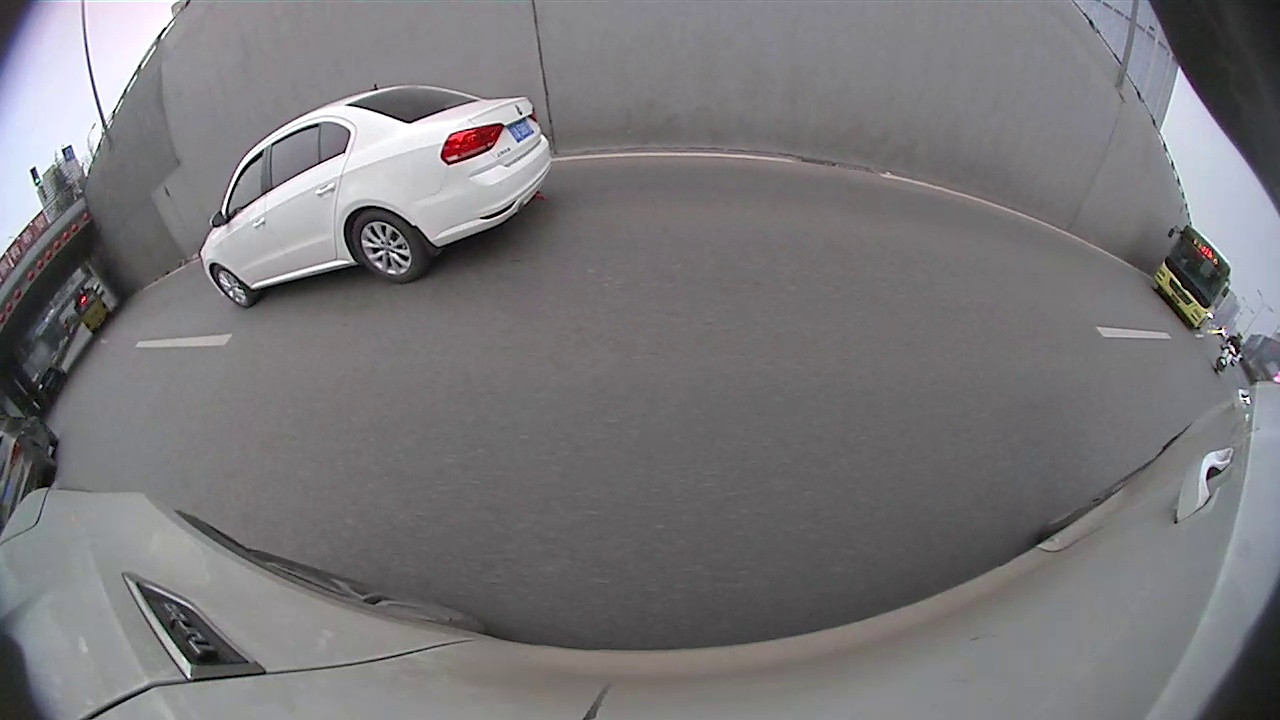bus: (1154, 217, 1234, 331)
car: (198, 82, 554, 311), (1, 413, 58, 528)
front: (204, 262, 260, 310)
rear: (345, 207, 435, 282)
rider: (1213, 335, 1244, 371)
